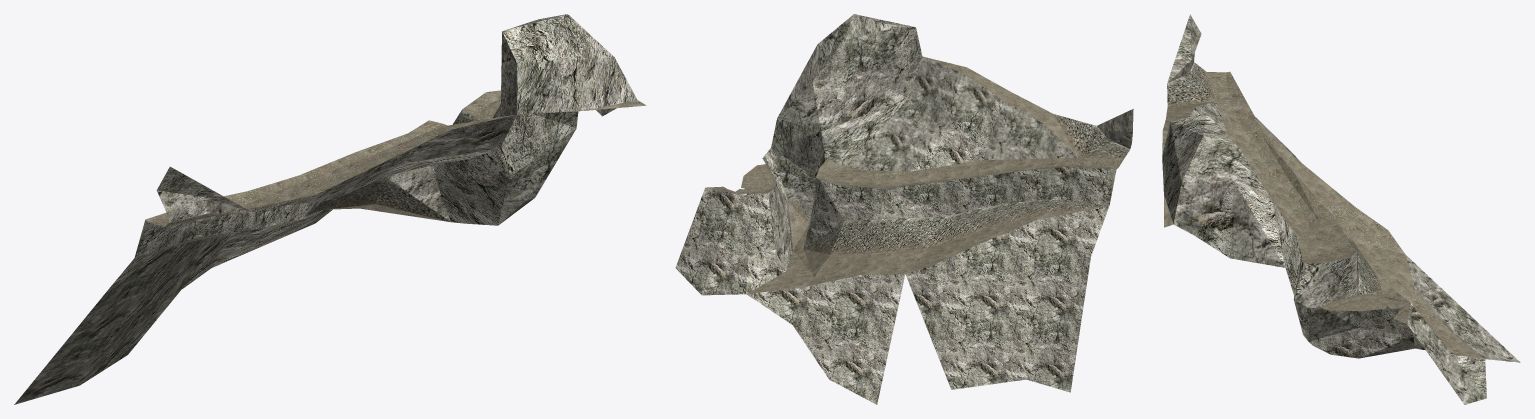
The model's file is cs_landbit_08.obj.
3 renders of one model, left to right at view 1: azimuth 30°, elevation 25°; view 2: azimuth 150°, elevation 25°; view 3: azimuth 270°, elevation 25°, orthographic. The views are drawn at different scales.
Visible parts, largest first — view 1: cs_landbit_08; view 2: cs_landbit_08; view 3: cs_landbit_08.
Boxes of the visible parts, left/top/right/bottom form: cs_landbit_08: left=14, top=14, right=646, bottom=404; cs_landbit_08: left=675, top=14, right=1133, bottom=404; cs_landbit_08: left=1162, top=14, right=1520, bottom=404.
Size of the model in its own units: 251 by 170 by 179.
